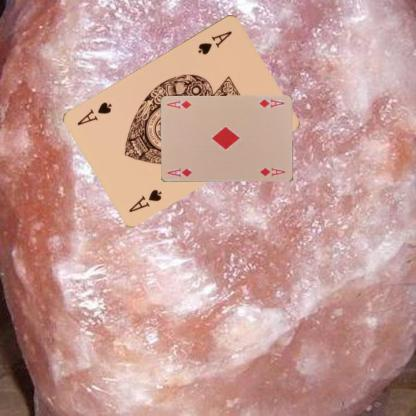Ad: (256, 97, 285, 109), (165, 166, 193, 178)
As: (196, 28, 233, 55), (126, 186, 163, 213)
